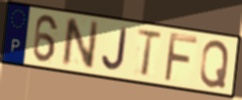6: (31, 13, 60, 64)
F: (162, 30, 199, 84)
J: (100, 26, 130, 72)
N: (61, 16, 101, 71)
Q: (198, 39, 231, 90)
T: (135, 28, 164, 79)
